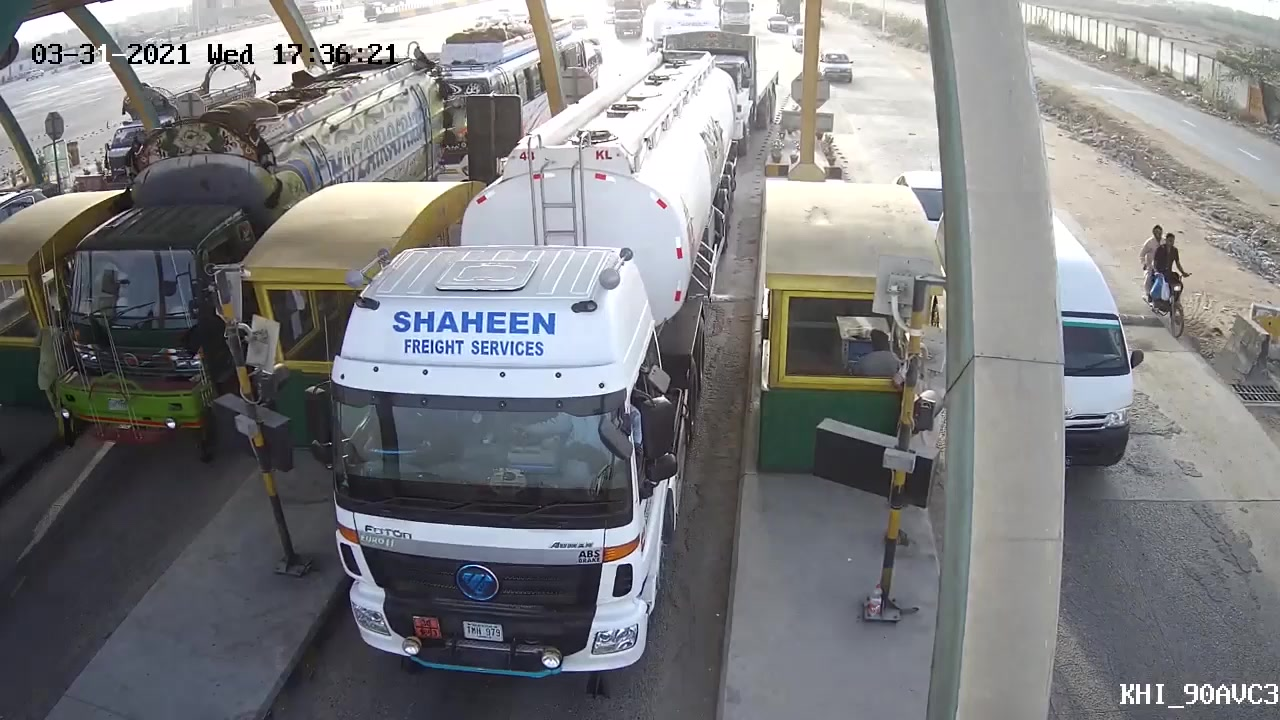F5: (309, 47, 748, 687)
